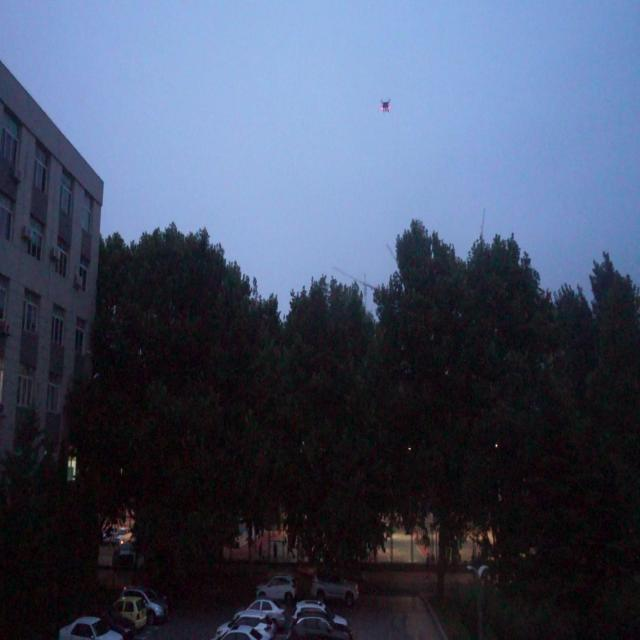UAV: (380, 99, 390, 113)
